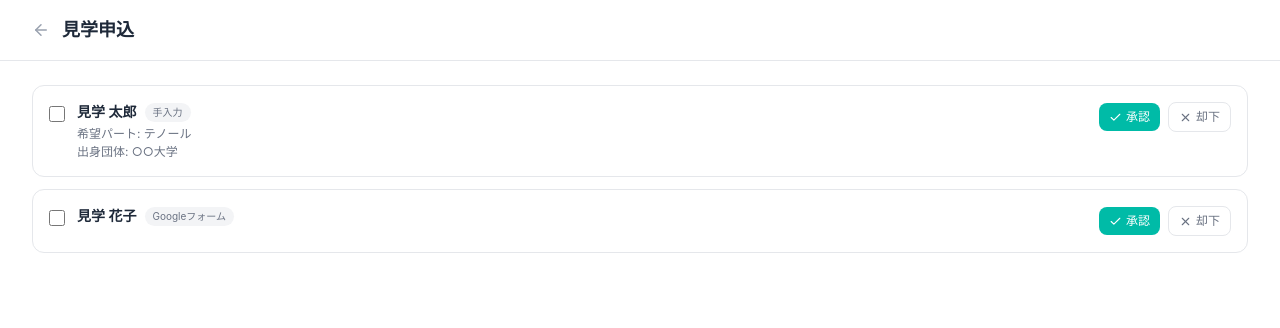
Test case: VisitorApplicationsPage › 一括承認に失敗した場合はエラーメッセージを表示する
This screenshot has width=1280, height=328.
Expected: the text "見学 太郎" is shown, [77,102,136,122]
Click the checkbox next to "見学 太郎". click: x=57, y=114
box: [49,106,65,122]
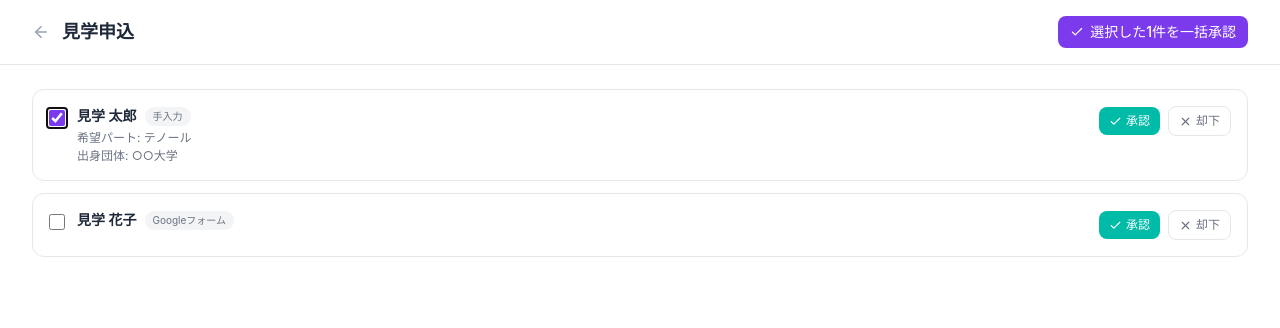
Click the button "選択した1件を一括承認". click: x=1153, y=32
box: [1058,16,1248,48]
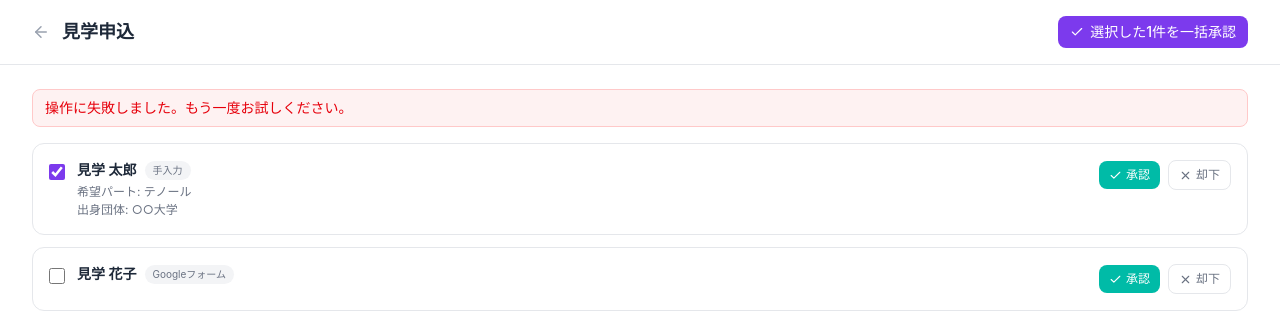
Expected: the text "見学 太郎" is shown, [77,160,136,180]
Result: the message reads "操作に失敗しました。もう一度お試しください。" at [45,99,353,116]
